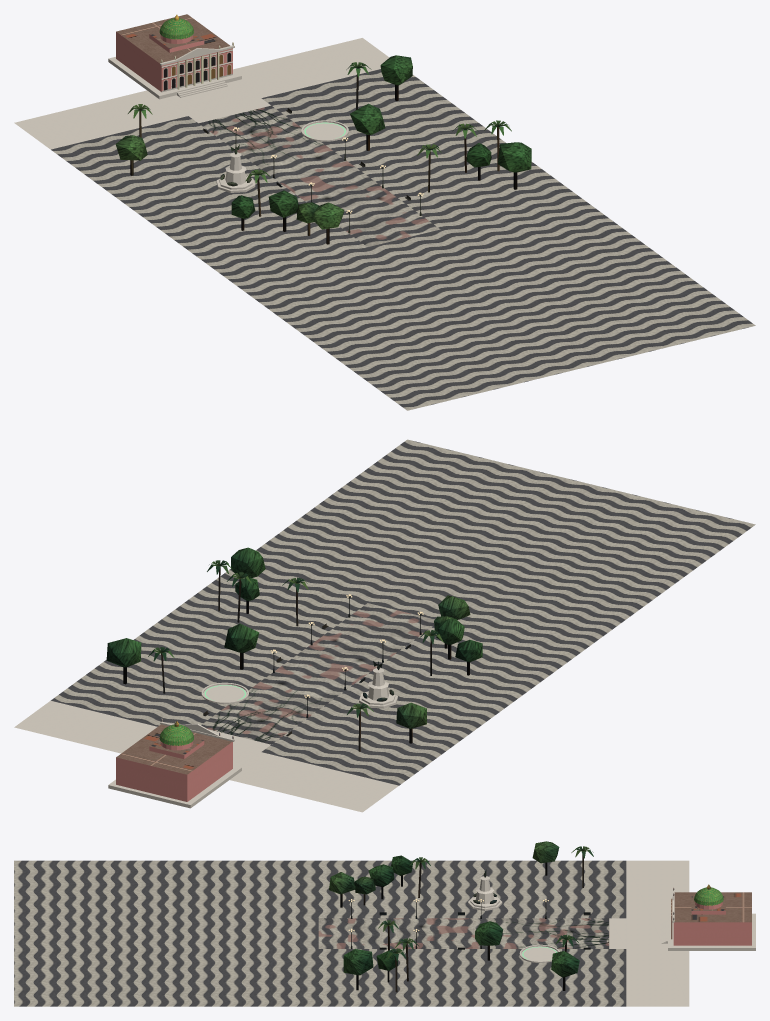
The model's file is lugar-manaos.glb.
3 renders of one model, top to bottom at view 1: azimuth 30°, elevation 25°; view 2: azimuth 150°, elevation 25°; view 3: azimuth 270°, elevation 25°, orthographic. The views are drawn at different scales.
Parts seen in each view (by area): view 1: luzG-cerca, luzS-pista, vert-cerca; view 2: luzG-cerca, luzS-pista, vert-cerca; view 3: luzG-cerca, luzS-pista, vert-cerca.
Boxes of the visible parts, box(x1,y1,x2,y2) form: luzG-cerca: box(14, 38, 755, 410); luzS-pista: box(108, 14, 440, 246); vert-cerca: box(115, 14, 531, 244); luzG-cerca: box(14, 439, 755, 812); luzS-pista: box(108, 603, 434, 808); vert-cerca: box(106, 547, 482, 751); luzG-cerca: box(14, 860, 689, 1006); luzS-pista: box(318, 876, 755, 962); vert-cerca: box(329, 841, 710, 992).
Bounding box in the file's own units: 88 × 14.5 × 189.
12 materials, 9 textured.
